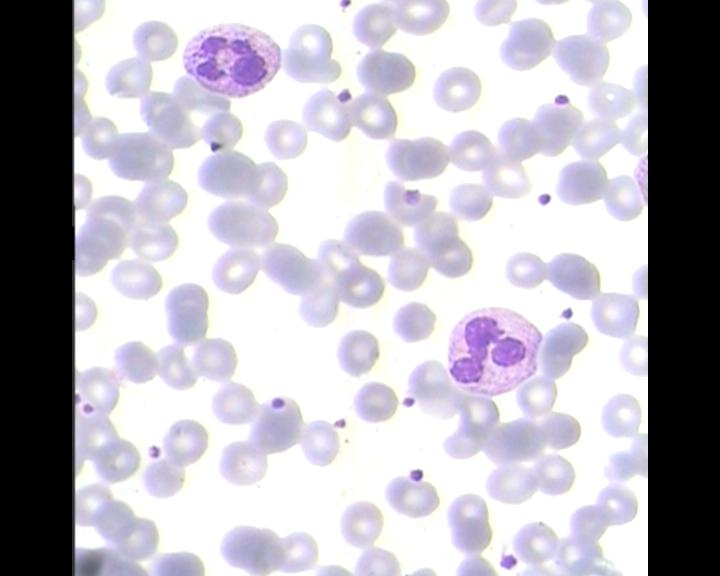neut: (446, 302, 546, 398), (181, 21, 283, 98)
